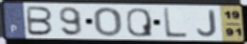9: (58, 6, 84, 37)
B: (25, 5, 54, 37)
J: (196, 9, 219, 38)
L: (162, 7, 189, 39)
O: (92, 7, 123, 38)
Q: (126, 7, 155, 38)
